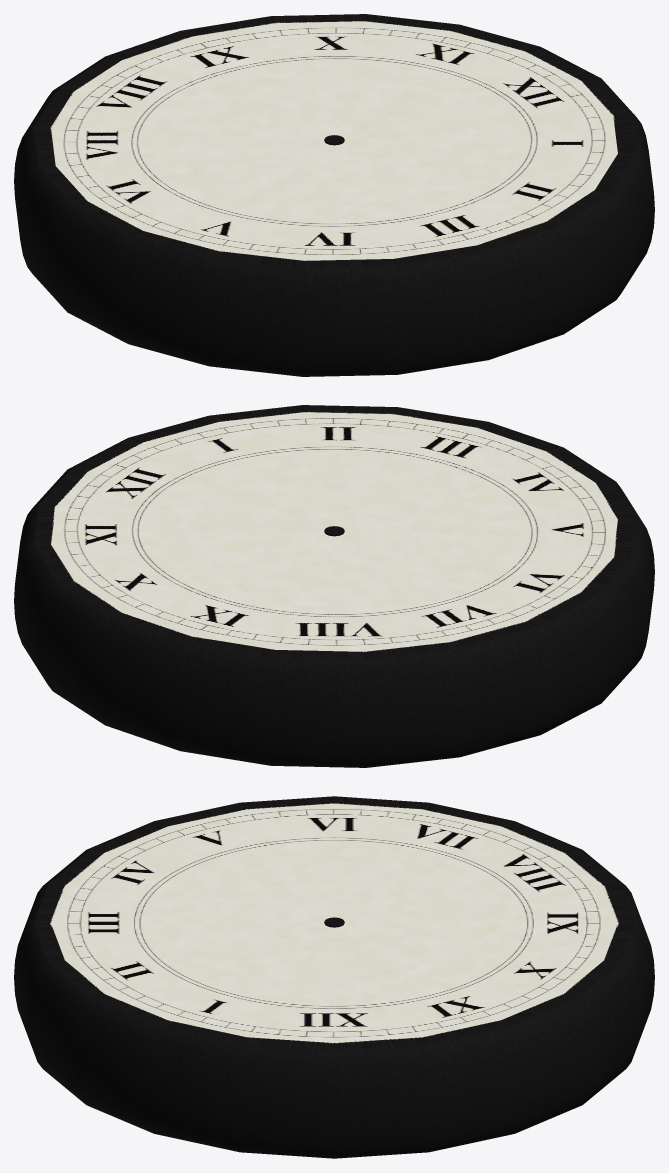
The model's file is outerRing.fbx.
The picture shows the model from 3 angles, top to bottom: view 1: azimuth 30°, elevation 25°; view 2: azimuth 150°, elevation 25°; view 3: azimuth 270°, elevation 25°; orthographic projection.
Visible parts, largest first — view 1: outerRing1; view 2: outerRing1; view 3: outerRing1.
Part boxes in pixels (<box>): outerRing1: <box>14,14,654,376</box>; outerRing1: <box>14,405,654,767</box>; outerRing1: <box>14,796,654,1158</box>.
Size of the model in its own units: 63.11 by 12 by 63.11.
2 materials, 2 textured.
